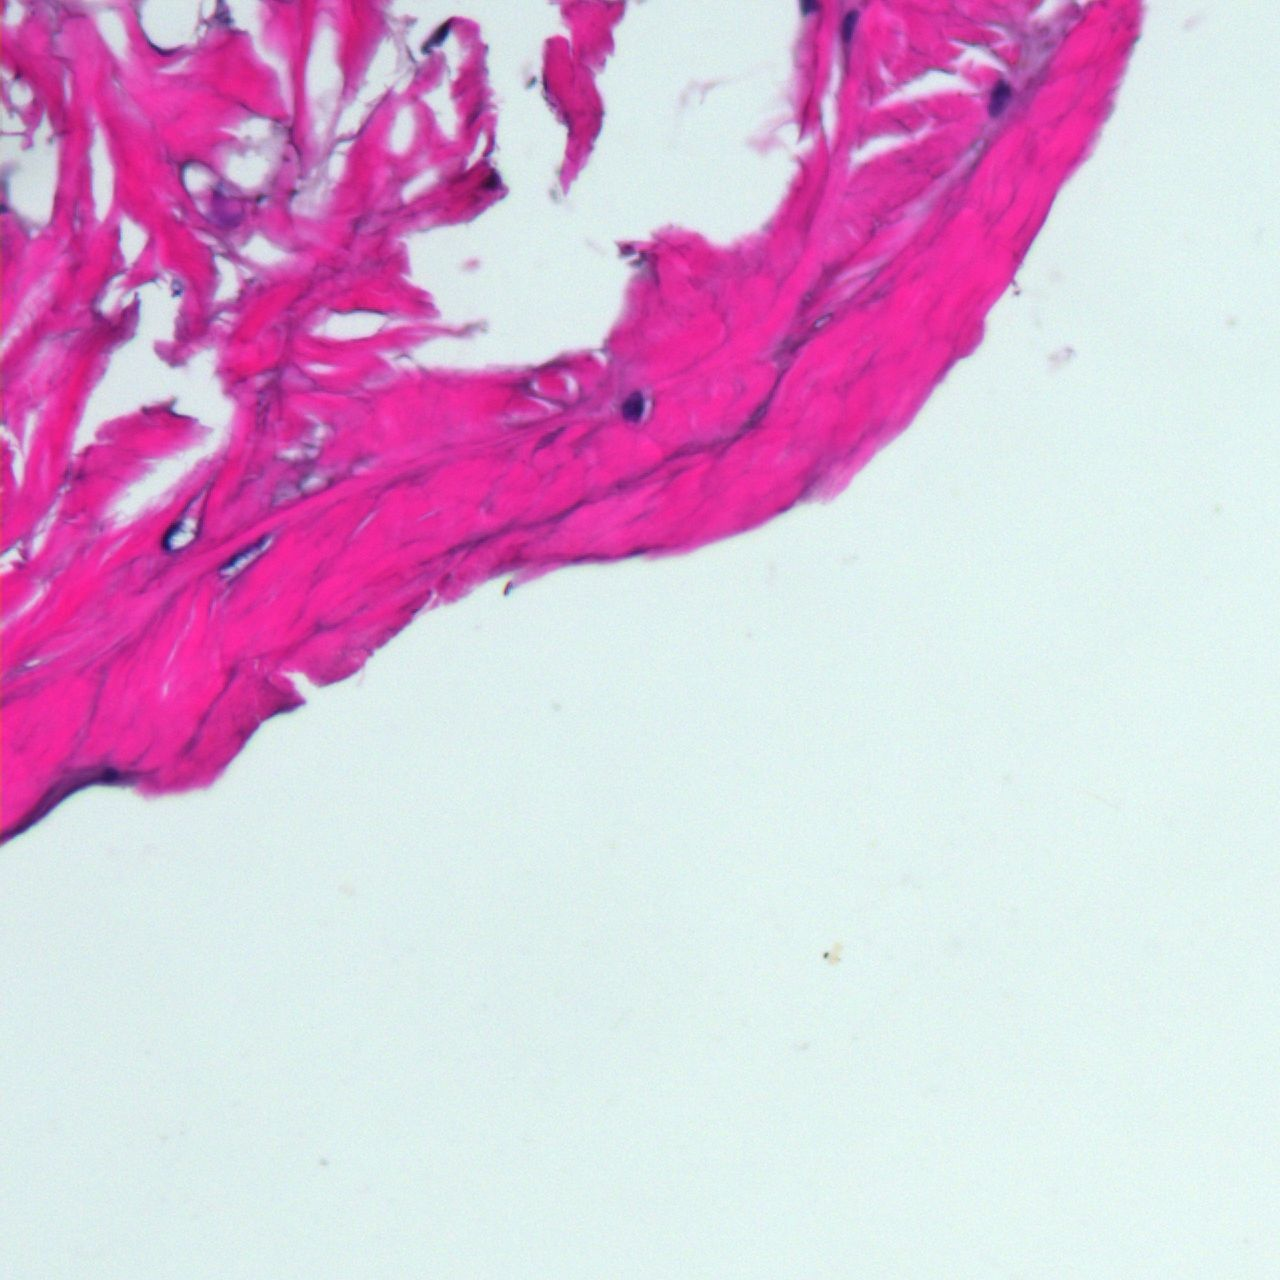dust: (822, 942, 840, 964)
nucleus-HE: (983, 77, 1014, 120), (425, 18, 456, 52), (622, 389, 644, 420), (840, 9, 858, 40), (479, 170, 501, 190), (101, 767, 118, 781)
